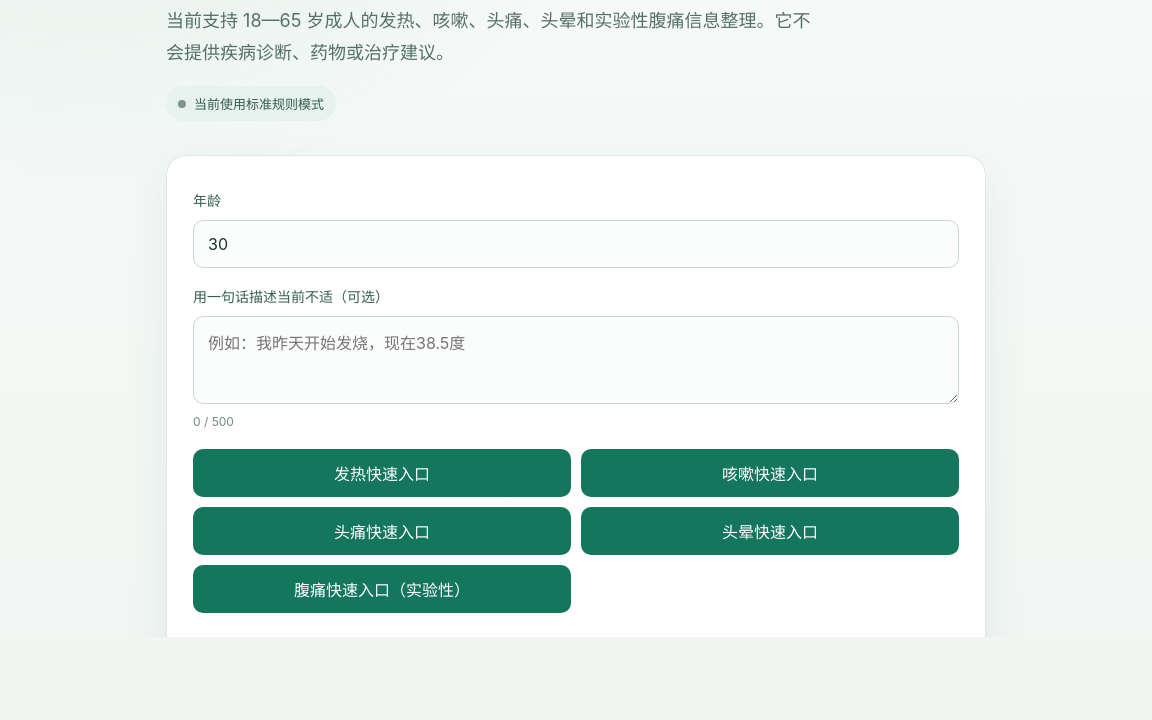
Scenario: 患者端基础流程 › 可以用一句话进入多主诉问诊
This screenshot has width=1152, height=720.
(page scrolled)
Type "我昨天开始发烧并且咳嗽" into the text box labelled "用一句话描述当前不适（可选）" at x=576, y=360, box [193,316,959,404]
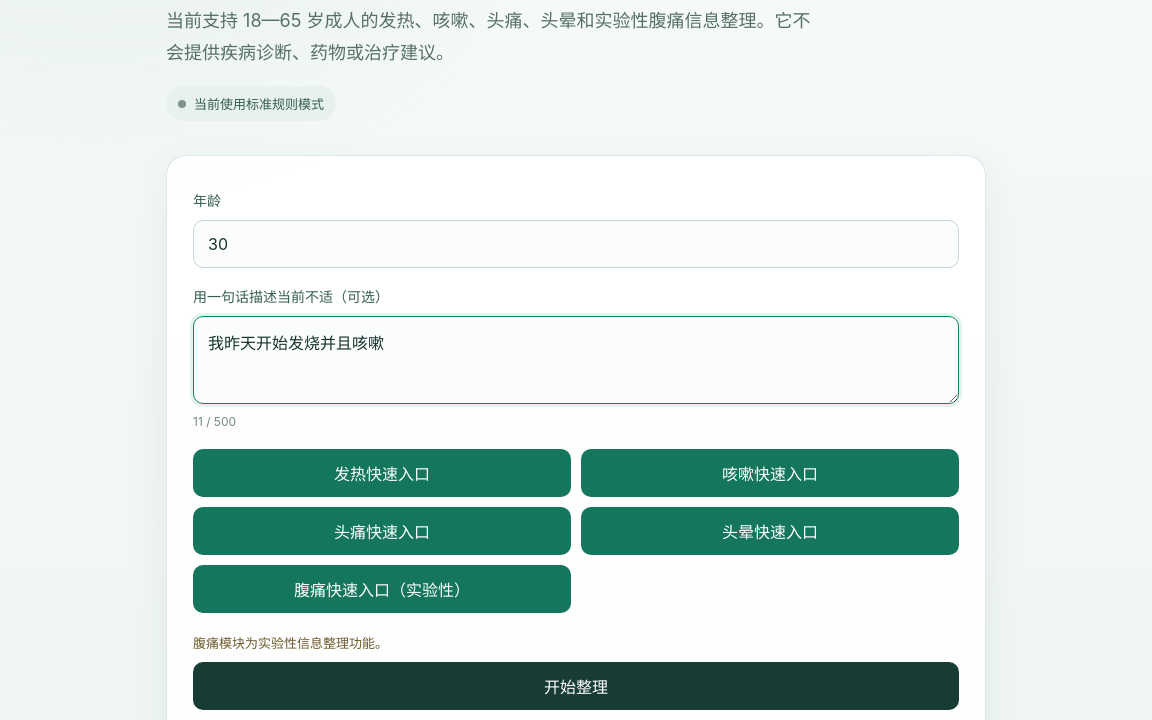
Click the button "开始整理" at x=576, y=686, box [193,662,959,710]
(page scrolled)
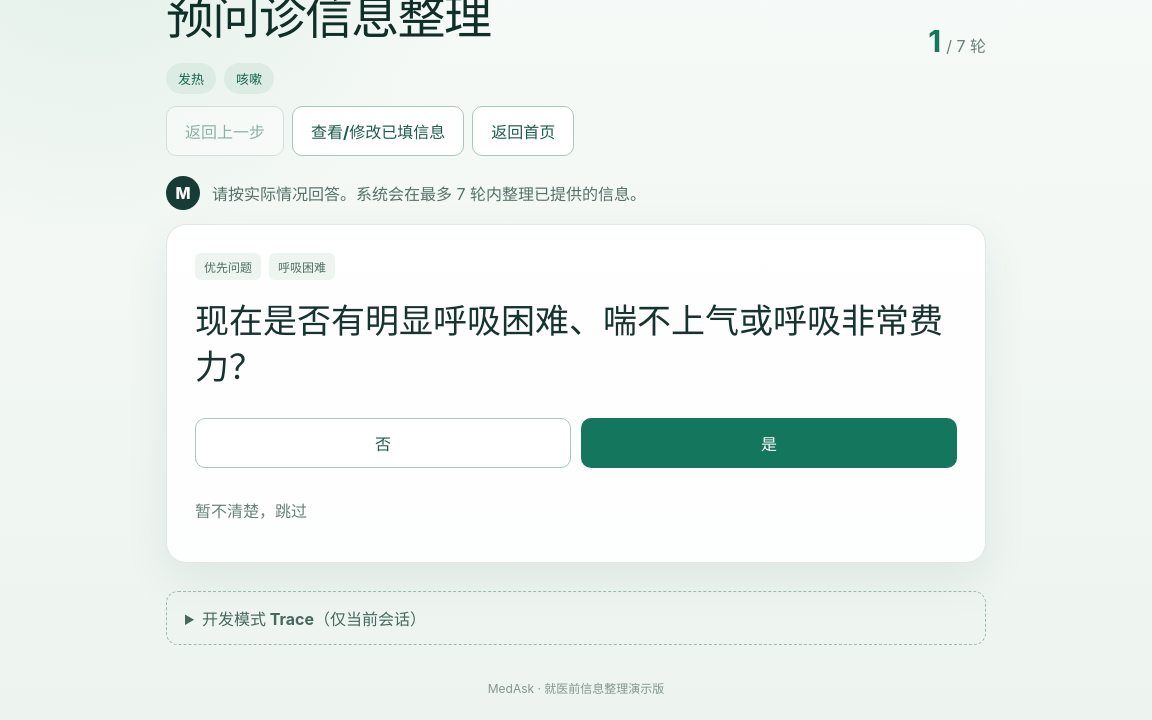
Expected: the text "发热" is shown, [166,63,216,94]
Result: the element named "问诊轮次" shows "1" at [928,23,941,59]
